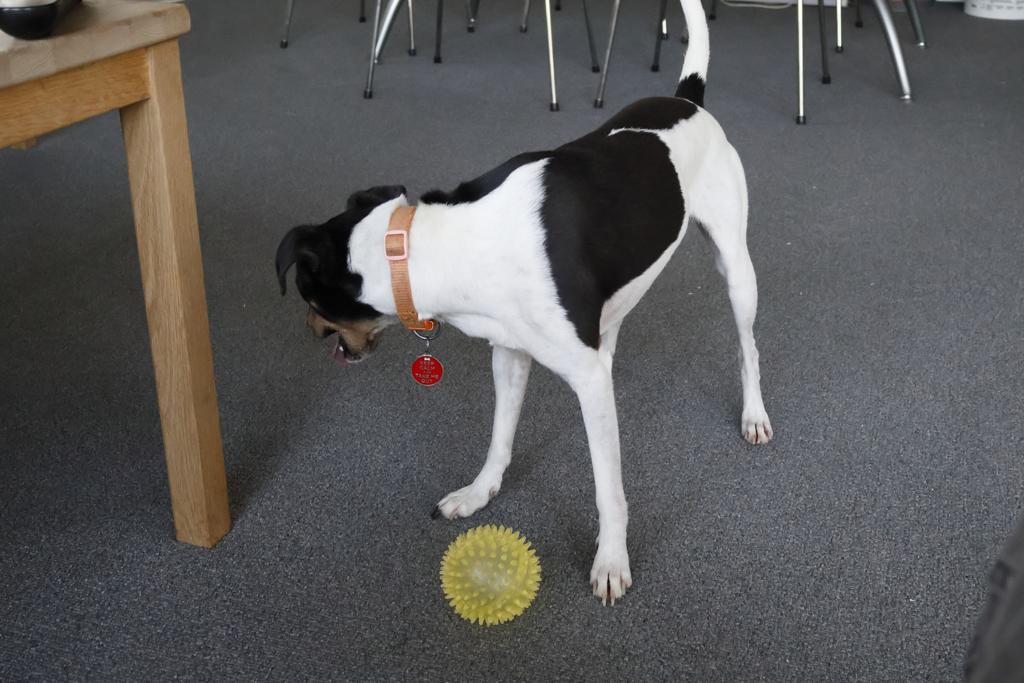Dog: (264, 0, 781, 615)
Humanoid: (948, 493, 1024, 683)
